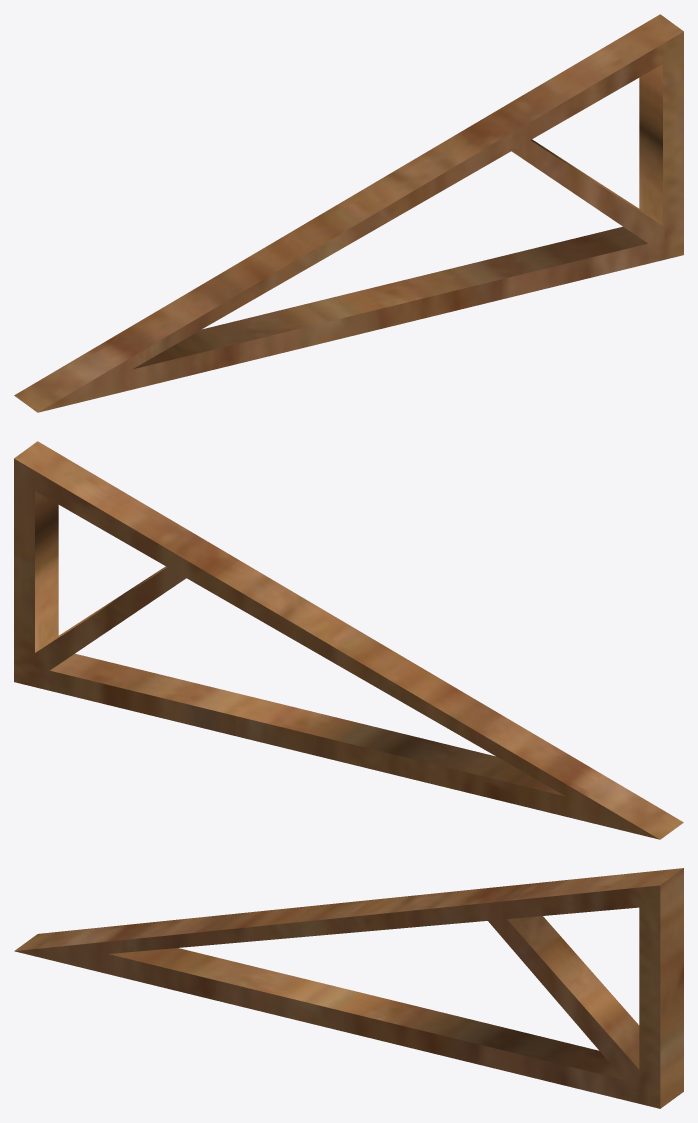
File: AdStropila.FBX
3 views of the same model, one above another, from view 1: azimuth 30°, elevation 25°; view 2: azimuth 150°, elevation 25°; view 3: azimuth 330°, elevation 25° (orthographic).
Visible parts, largest first — view 1: Object011; view 2: Object011; view 3: Object011.
Boxes of the visible parts, x1,y1,x2,y2 form: Object011: (14,14,683,412); Object011: (14,441,683,839); Object011: (14,868,683,1108).
Bounding box in the file's own units: 381 × 126 × 24.13.
Materials: 1 (1 with a texture image).
